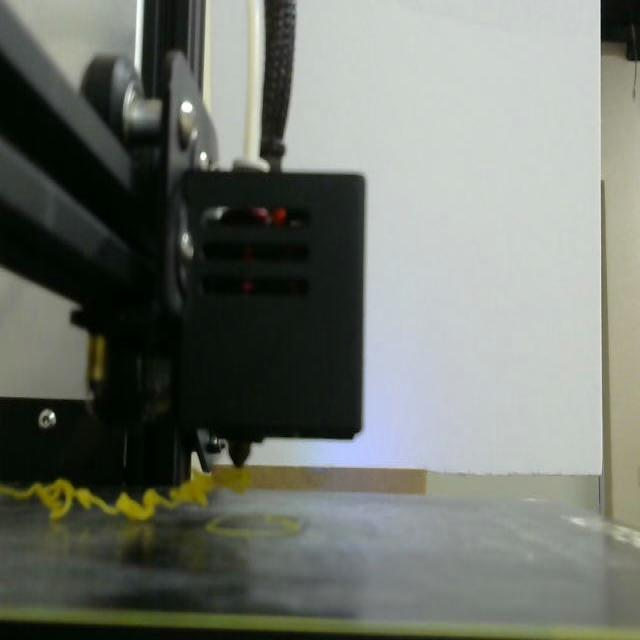spaghetti: (0, 468, 251, 522)
